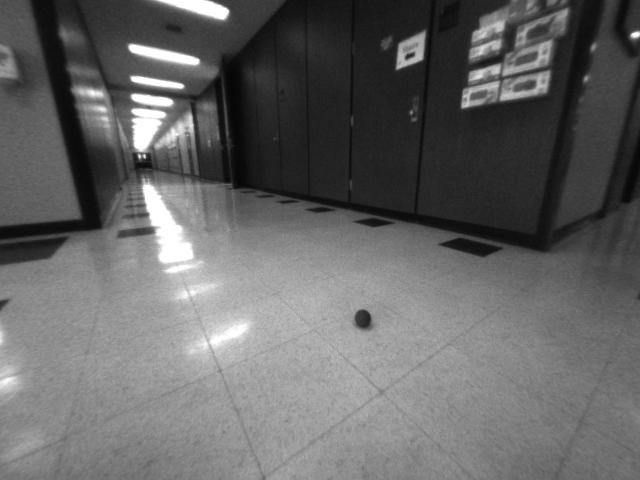dogtoy: (348, 300, 379, 335)
